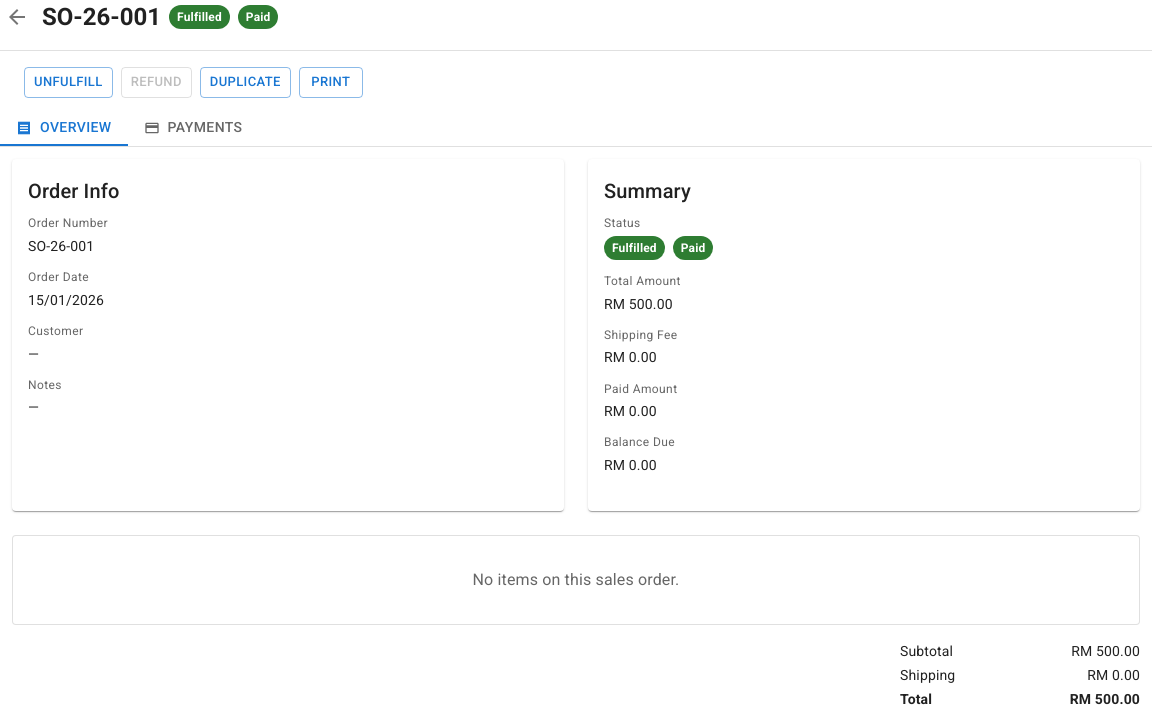
Test: SalesOrderDetailPage › shows confirm dialog when Unfulfill is clicked
This screenshot has width=1152, height=716.
Click the button "Unfulfill" at (68, 82), box left=24, top=67, right=113, bottom=98
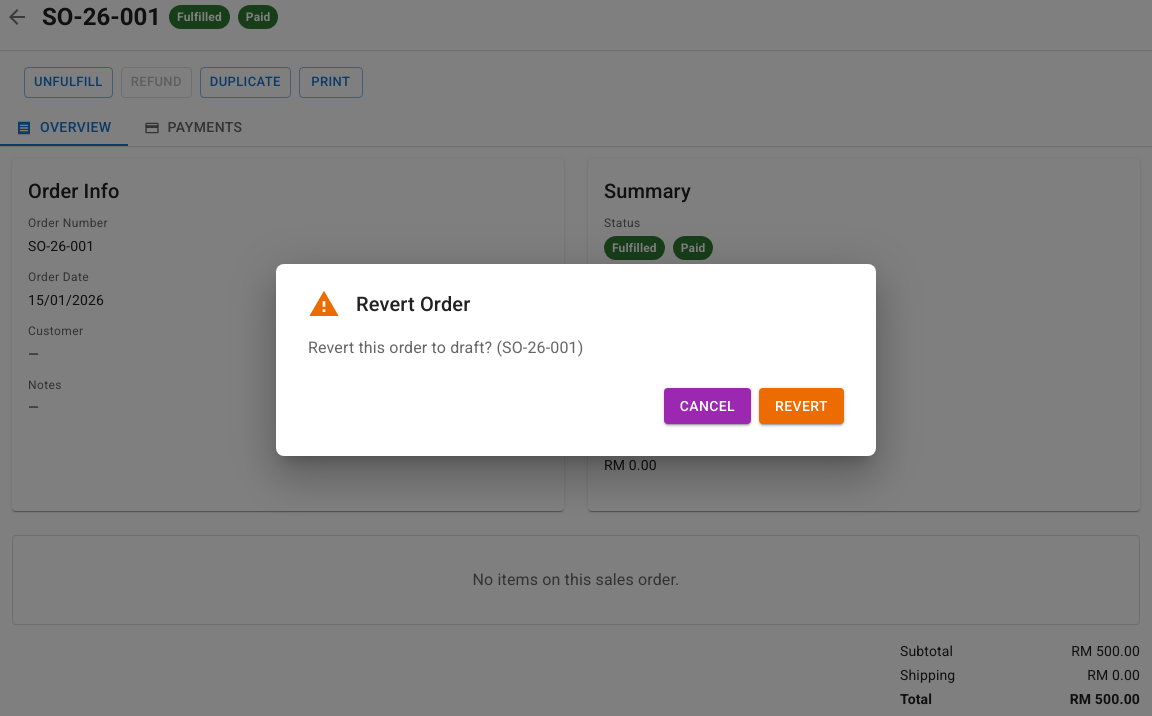
Now the text "Revert this order to draft? (SO-26-001)" is shown, box left=308, top=338, right=583, bottom=357
